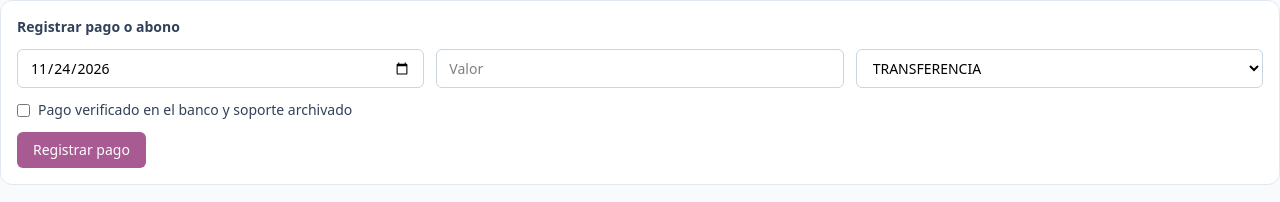
Test: PaymentForm: doble envío › un doble clic dispara una sola petición y el botón muestra el estado de carga
Later steps or results of the test are not shown.
Type "5000" into the number field with placeholder "Valor" at (640, 68), box [436,49,844,88]
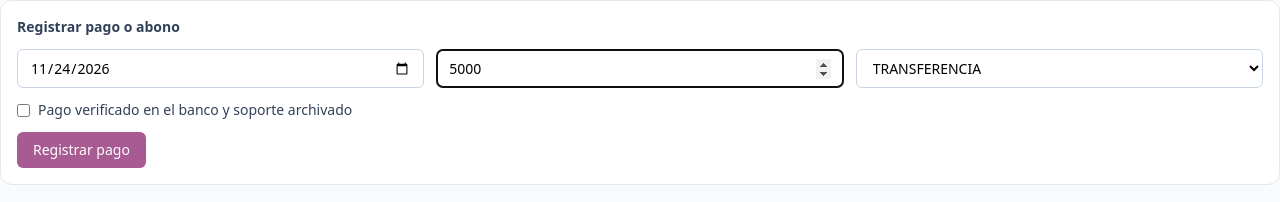
Double-click the button "Registrar pago" at (81, 150), box [17,132,146,168]
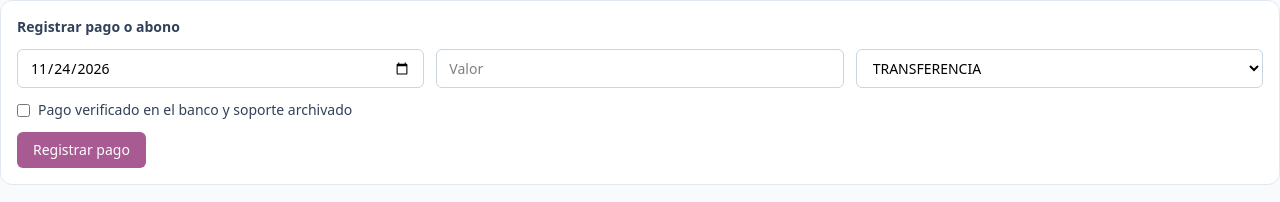
Expected: the number field with placeholder "Valor" is empty, [436,49,844,88]
